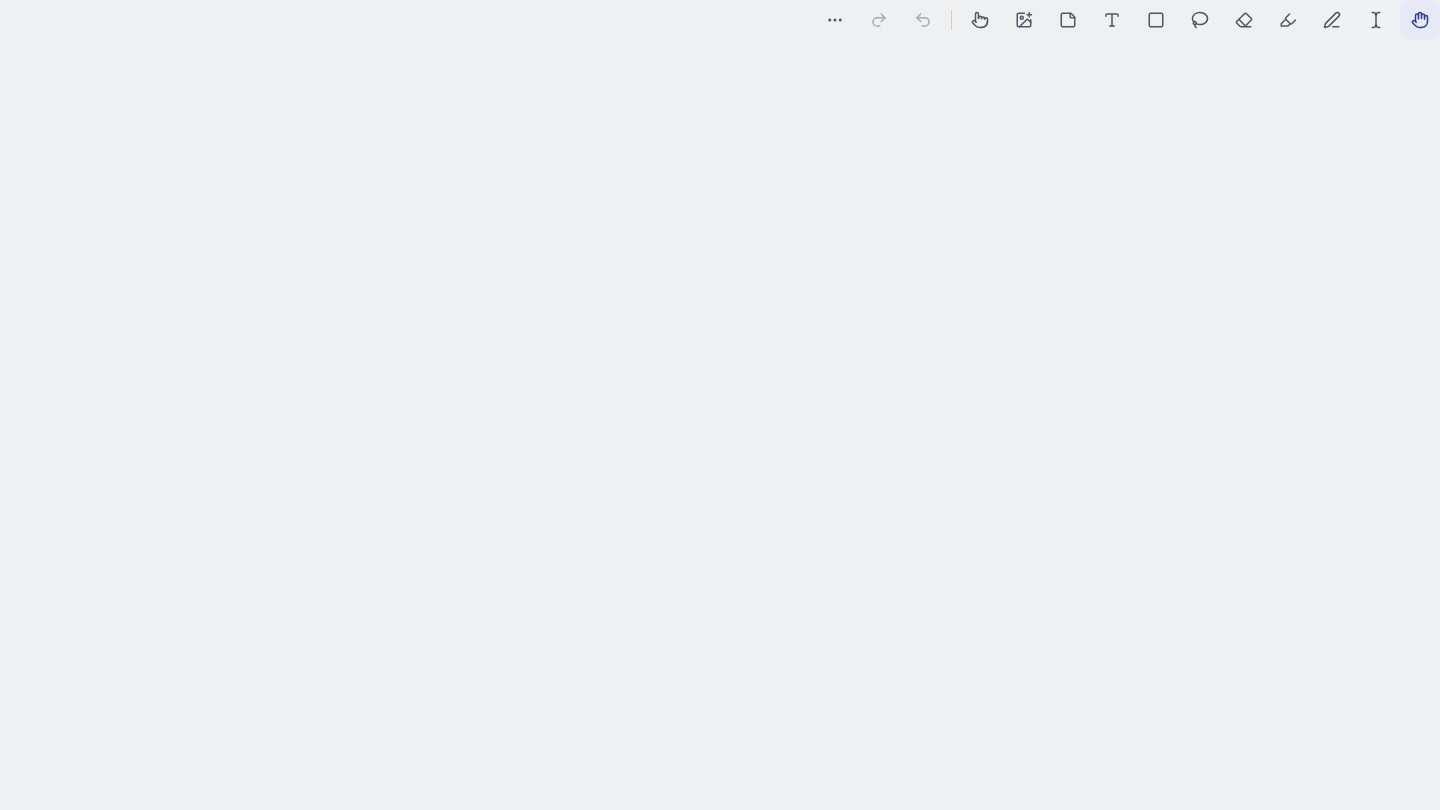
Test: InkToolbar › opens an honest «قدرات القلم على هذا الجهاز» panel from the overflow menu
Click the button named "المزيد من أدوات الكتابة". click: (835, 20)
box: top-left (815, 0), bottom-right (855, 40)
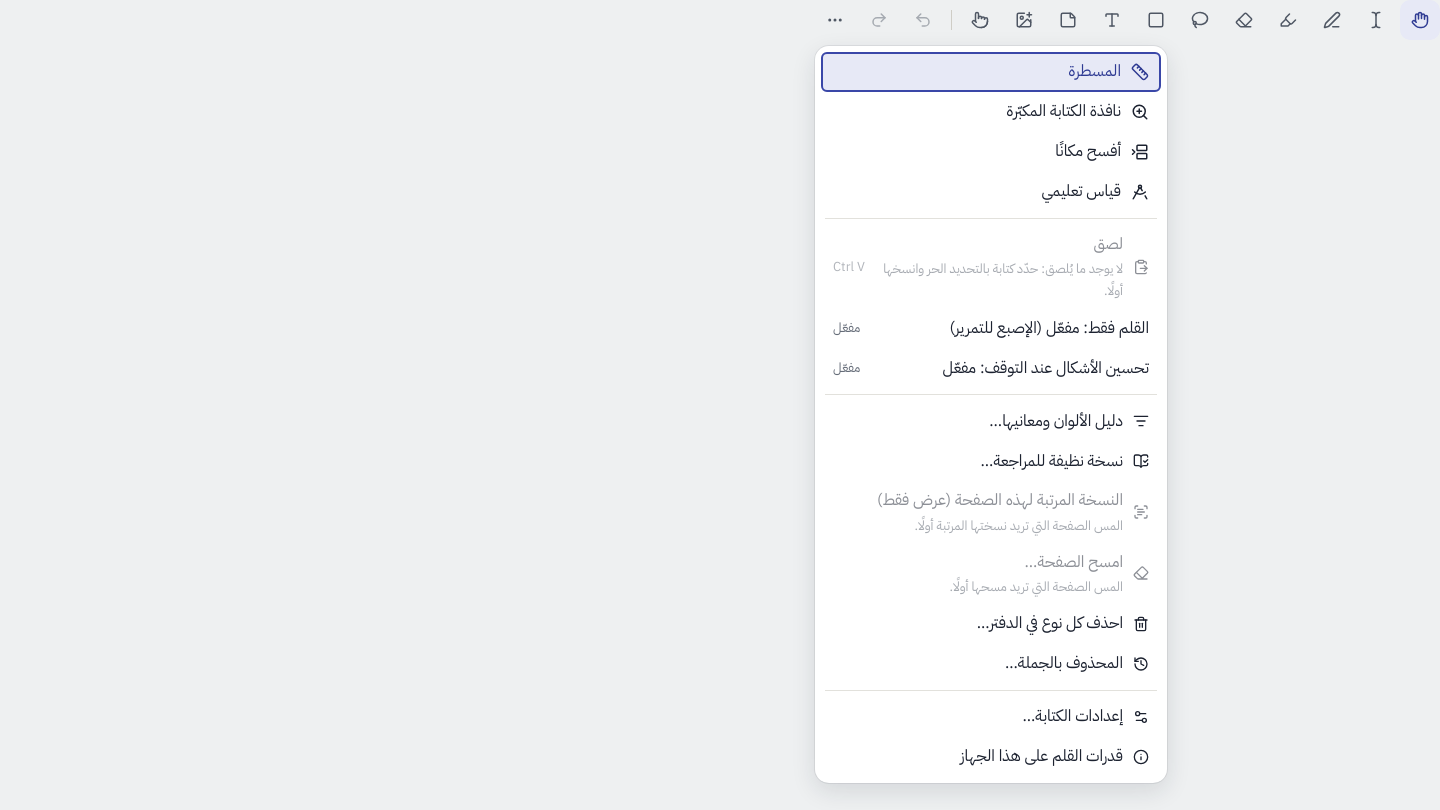
Click the menu item "قدرات القلم على هذا الجهاز". click: (1055, 756)
box: top-left (960, 744), bottom-right (1149, 768)
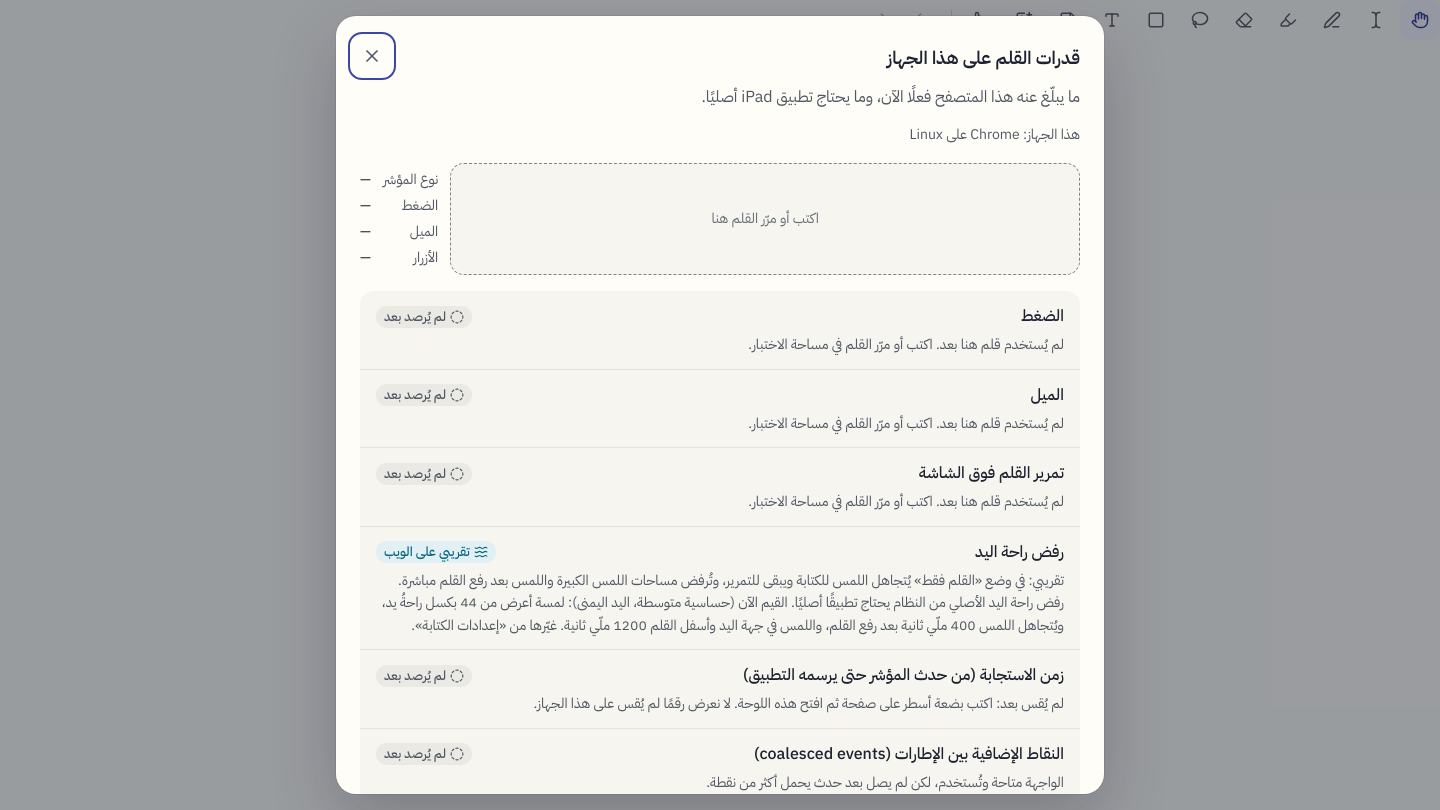
Result: the 1st text "لم يُرصد بعد" is shown at top-left (384, 306), bottom-right (446, 327)
